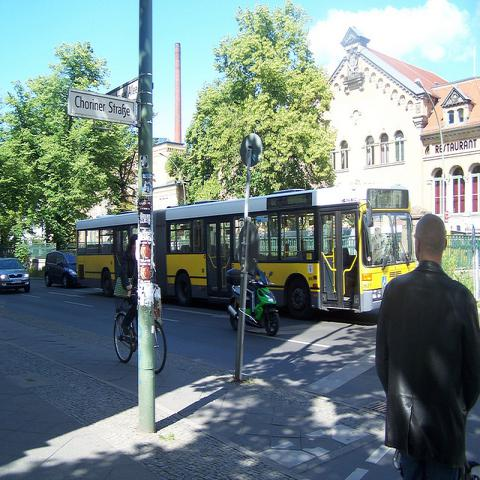bus: (74, 178, 416, 316)
car: (44, 249, 79, 289), (0, 256, 30, 294)
motorcycle: (226, 268, 281, 336)
